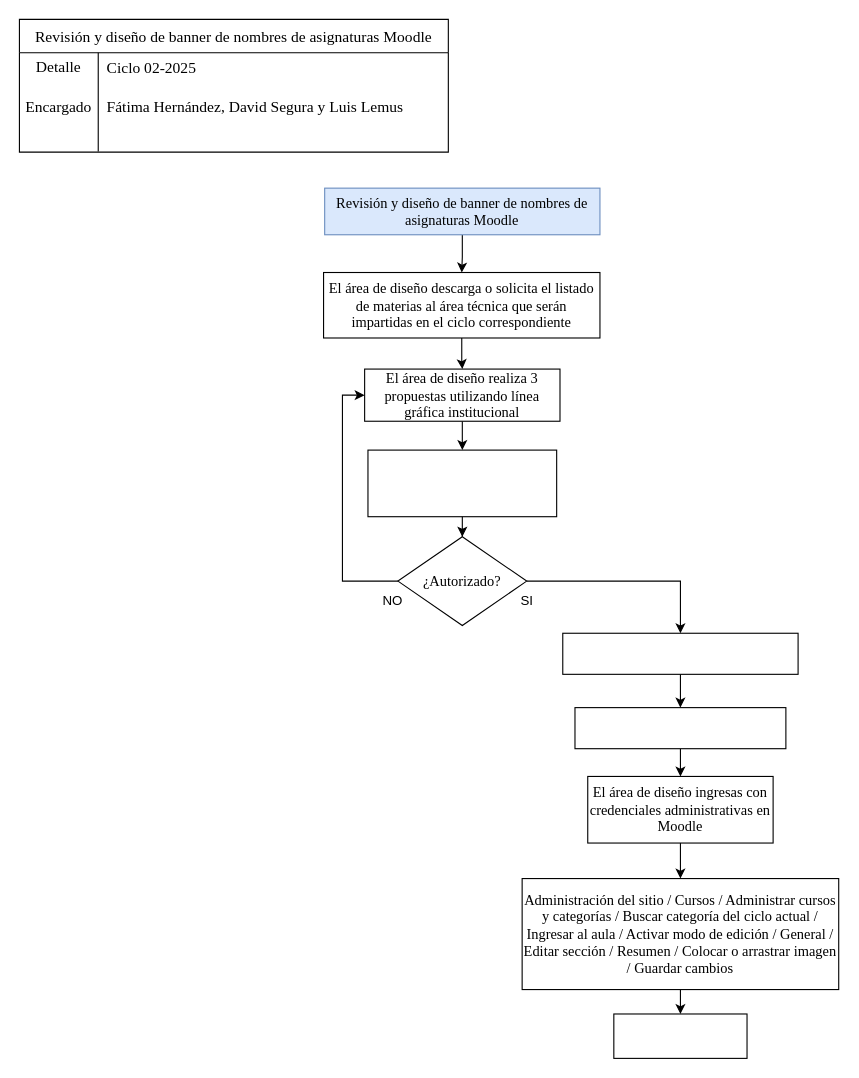
The diagram is 859 pixels wide and 1078 high, and some of its shapes have lost their labels. Each missing label, with the centre of its shape:
"Crear el banner para cada una de las aulas con vigencia de un año" goes at point (680, 653).
"Envío de propuesta a la Dirección de Educación Virtual para autorizar" goes at point (462, 483).
"Exportación de imagen en PNG de cada uno de los banners" goes at point (680, 728).
"Validar que todo este correcto" goes at point (680, 1035).
